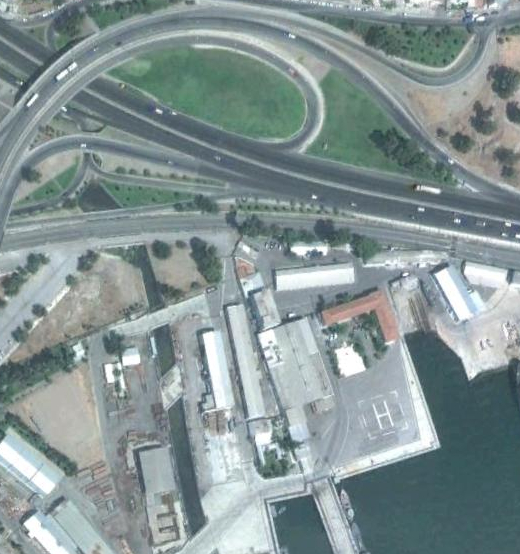heliport: (369, 400, 396, 431)
